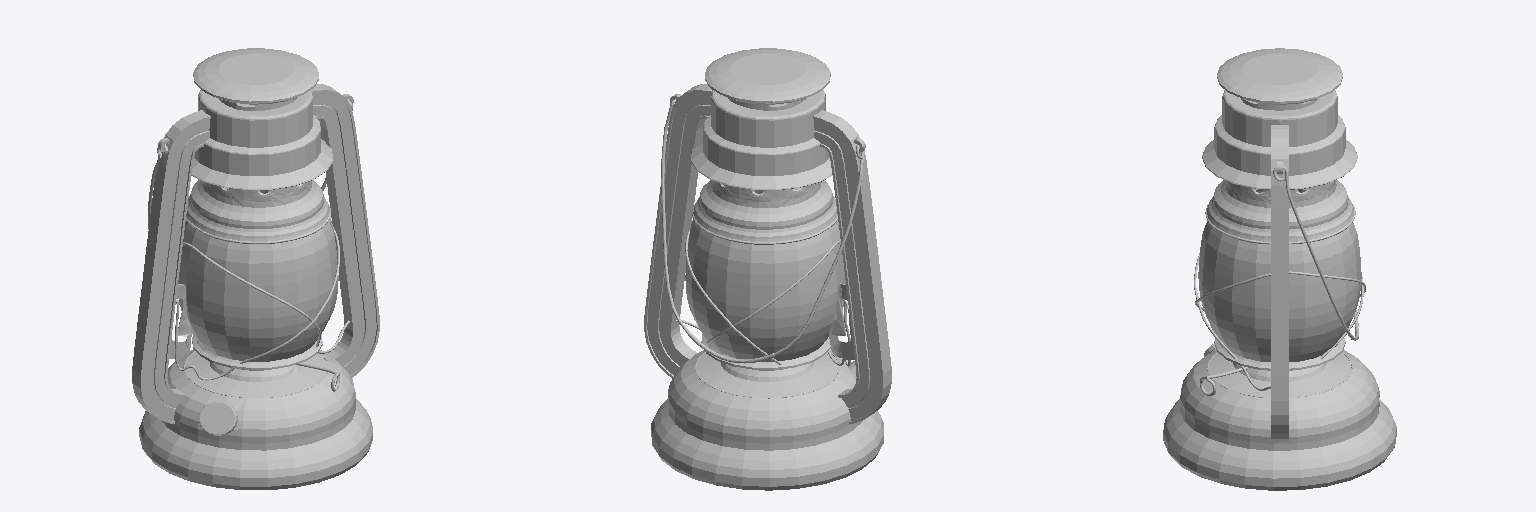
Rendered from lantern.obj.
3 renders of one model, left to right at view 1: azimuth 30°, elevation 25°; view 2: azimuth 150°, elevation 25°; view 3: azimuth 270°, elevation 25°, orthographic.
Parts seen in each view (by area): view 1: lantern_obj; view 2: lantern_obj; view 3: lantern_obj.
Part boxes in pixels (bbox=[...]): lantern_obj: bbox=[132, 48, 379, 489]; lantern_obj: bbox=[644, 48, 891, 490]; lantern_obj: bbox=[1163, 48, 1396, 490].
Bounding box in the file's own units: 0.9494 × 1.42 × 0.8036.